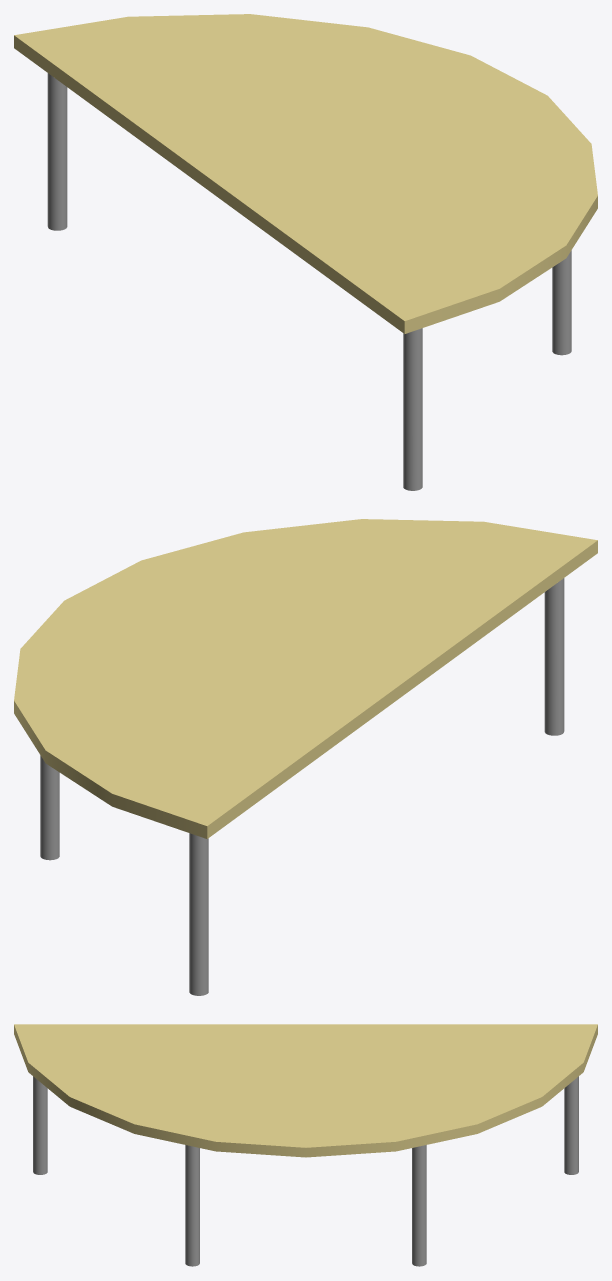
The model's file is TafelAulaRond.fbx.
The picture shows the model from 3 angles, top to bottom: view 1: azimuth 30°, elevation 25°; view 2: azimuth 150°, elevation 25°; view 3: azimuth 270°, elevation 25°; orthographic projection. The views are drawn at different scales.
Visible parts, largest first — view 1: pCylinder1, pPlane1, pCylinder3, pCylinder2, pCylinder4; view 2: pCylinder1, pPlane1, pCylinder2, pCylinder3, pCylinder5; view 3: pCylinder1, pCylinder4, pCylinder5, pCylinder2, pCylinder3.
Boxes of the visible parts, left/top/right/bottom form: pCylinder1: left=14, top=14, right=597, bottom=333; pPlane1: left=14, top=35, right=404, bottom=333; pCylinder3: left=403, top=328, right=422, bottom=490; pCylinder2: left=47, top=73, right=67, bottom=230; pCylinder4: left=552, top=250, right=571, bottom=355; pCylinder1: left=14, top=519, right=597, bottom=838; pPlane1: left=207, top=540, right=597, bottom=838; pCylinder2: left=189, top=833, right=208, bottom=995; pCylinder3: left=544, top=578, right=564, bottom=735; pCylinder5: left=40, top=755, right=59, bottom=860; pCylinder1: left=14, top=1024, right=597, bottom=1157; pCylinder4: left=185, top=1145, right=199, bottom=1266; pCylinder5: left=412, top=1145, right=426, bottom=1266; pCylinder2: left=564, top=1076, right=578, bottom=1174; pCylinder3: left=33, top=1076, right=47, bottom=1174.
Size of the model in its own units: 4 by 2.09 by 8.
